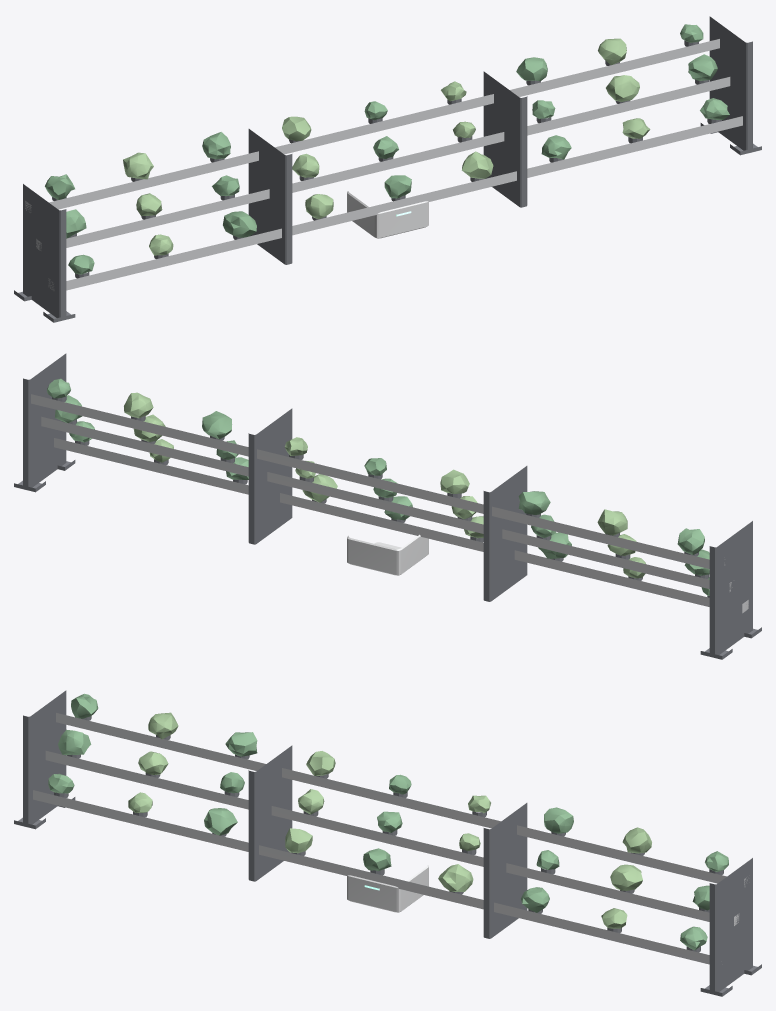
Rendered from iter_04.glb.
The picture shows the model from 3 angles, top to bottom: view 1: azimuth 30°, elevation 25°; view 2: azimuth 150°, elevation 25°; view 3: azimuth 330°, elevation 25°; orthographic projection.
Visible parts, largest first — view 1: Channels, Frames, Foliage, Foliage_Light, Pump_Box, Net_Cups; view 2: Channels, Frames, Foliage, Foliage_Light, Pump_Box, Net_Cups, Floor_Clamps; view 3: Channels, Frames, Foliage, Foliage_Light, Pump_Box, Net_Cups.
Part boxes in pixels (x1,y1,x2,y2): Channels: (25, 39, 742, 290); Frames: (23, 16, 752, 317); Foliage: (45, 24, 729, 274); Foliage_Light: (123, 38, 650, 255); Pump_Box: (347, 191, 428, 238); Net_Cups: (52, 40, 721, 278); Channels: (31, 394, 748, 613); Frames: (23, 353, 752, 654); Foliage: (47, 378, 709, 595); Foliage_Light: (124, 392, 645, 578); Pump_Box: (347, 528, 428, 575); Net_Cups: (52, 396, 709, 597); Floor_Clamps: (14, 460, 761, 659); Channels: (33, 713, 747, 964); Frames: (23, 690, 752, 991); Foliage: (48, 693, 728, 950); Foliage_Light: (128, 712, 651, 928); Pump_Box: (347, 865, 428, 912); Net_Cups: (54, 716, 723, 952).
Size of the model in its own units: 3.92 by 0.6103 by 0.3975.
